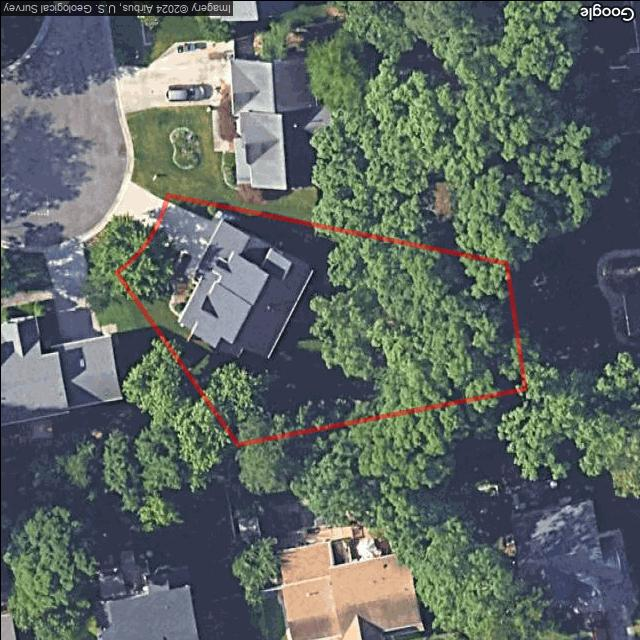Driveway: (151, 201, 218, 259)
Extra-Driveway: (108, 181, 165, 236)
Extra-Lawn: (87, 221, 148, 270)
House: (178, 214, 312, 356)
Lawn: (117, 194, 522, 444)
Other: (352, 231, 524, 419), (168, 272, 200, 320)
